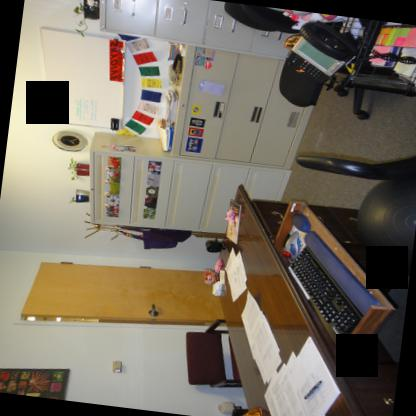handbag: (117, 229, 178, 248)
